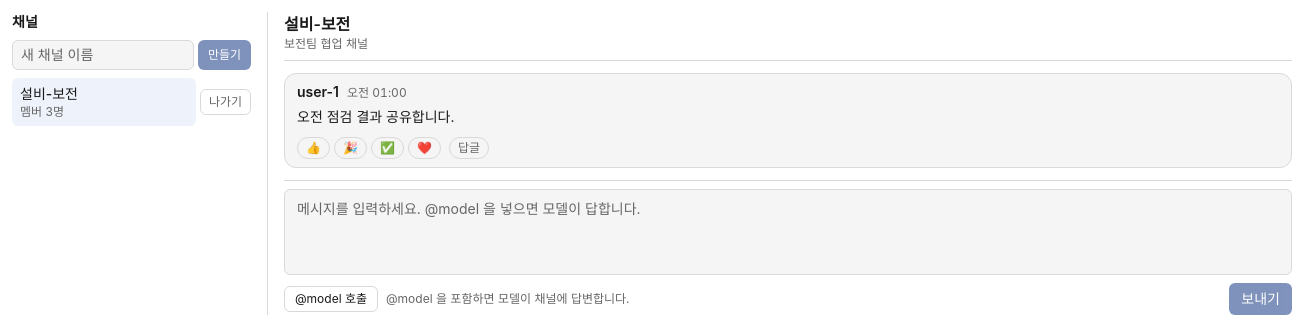
Scenario: ChannelsWorkspace › 리액션을 누르면 aria-pressed 가 켜지고 카운트가 오른다
Check: the text "오전 점검 결과 공유합니다." is shown, box 297,108 -> 454,125
Step 1. Click the button "👍" → (314, 148), box 297,137 -> 330,159
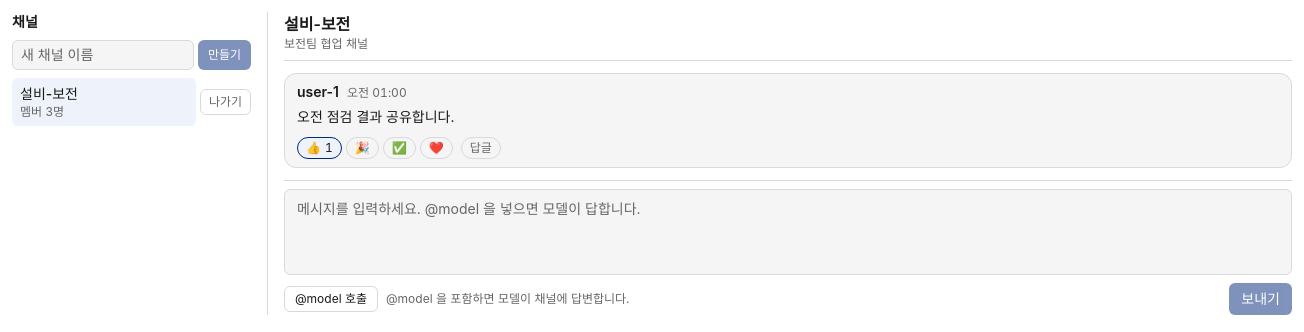
Check: the button "👍 1" is shown, box 297,137 -> 342,159
